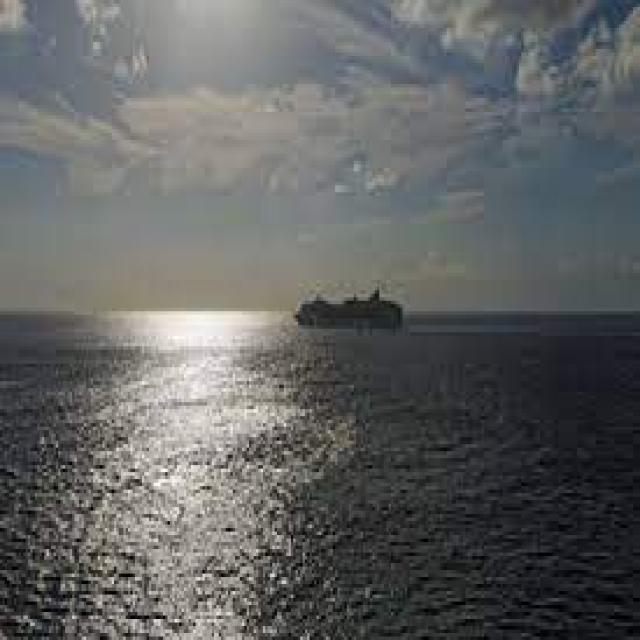cargoship: (285, 252, 412, 346)
